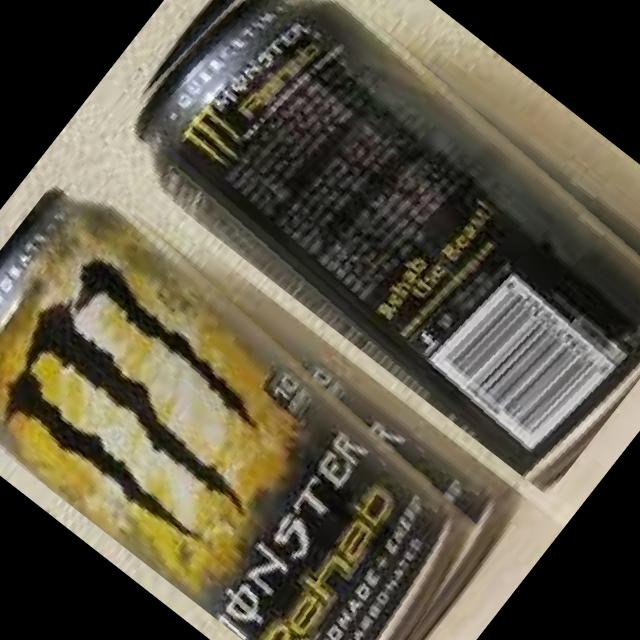Cans: (96, 0, 640, 495), (0, 156, 527, 640)
